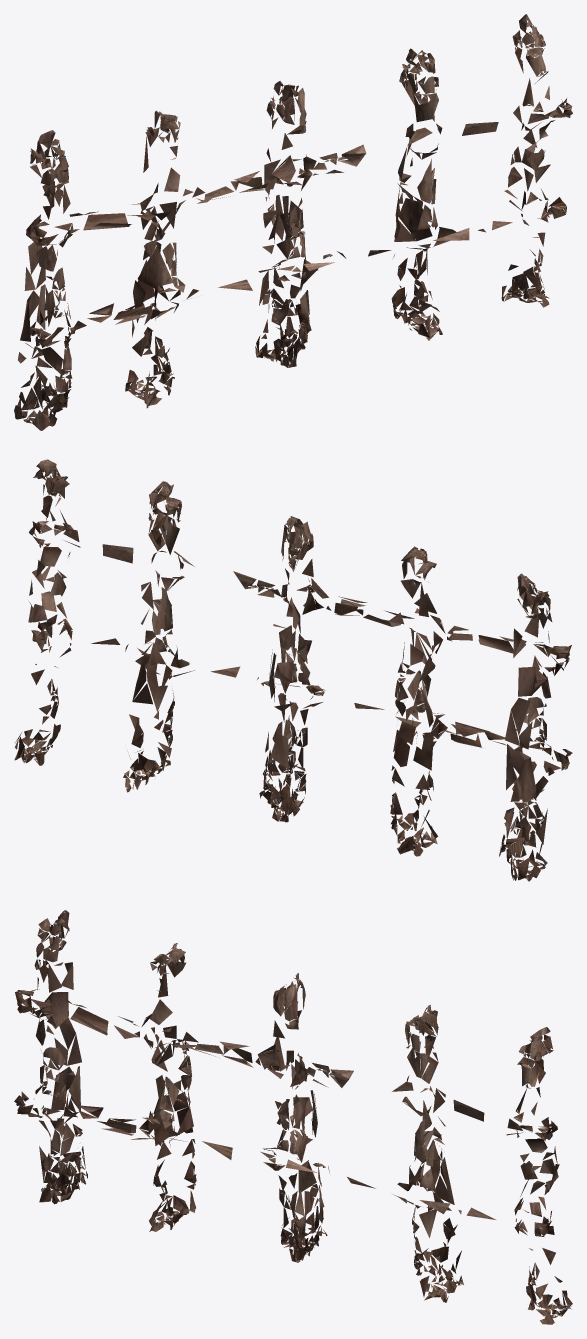
Rendered from fence-b.glb.
3 views of the same model, one above another, from view 1: azimuth 30°, elevation 25°; view 2: azimuth 150°, elevation 25°; view 3: azimuth 330°, elevation 25° (orthographic).
Parts seen in each view (by area): view 1: Mesh_0; view 2: Mesh_0; view 3: Mesh_0.
Part boxes in pixels (box(x1,y1,x2,y2)): Mesh_0: box(14, 14, 572, 430); Mesh_0: box(14, 459, 572, 881); Mesh_0: box(14, 910, 572, 1324).
Bounding box in the file's own units: 3 × 1.59 × 0.4079.
1 material, 1 textured.
